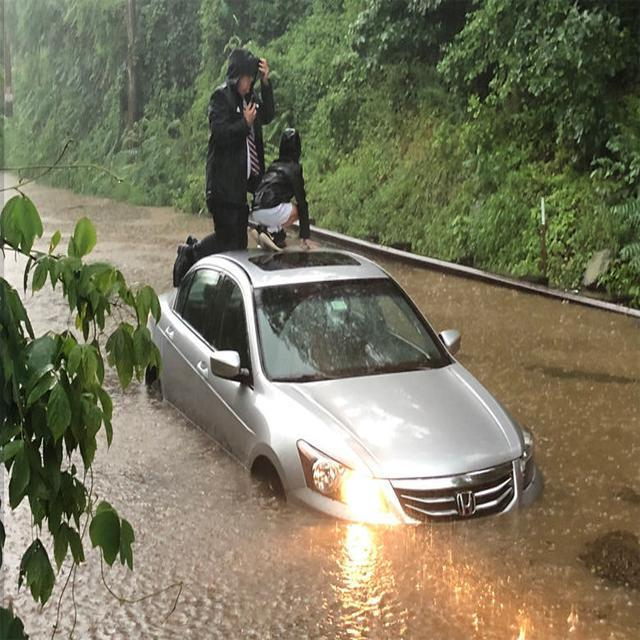Car-RiskLevel3: (132, 230, 555, 541)
Person-RiskLevel3: (169, 35, 255, 286), (259, 114, 332, 257)
